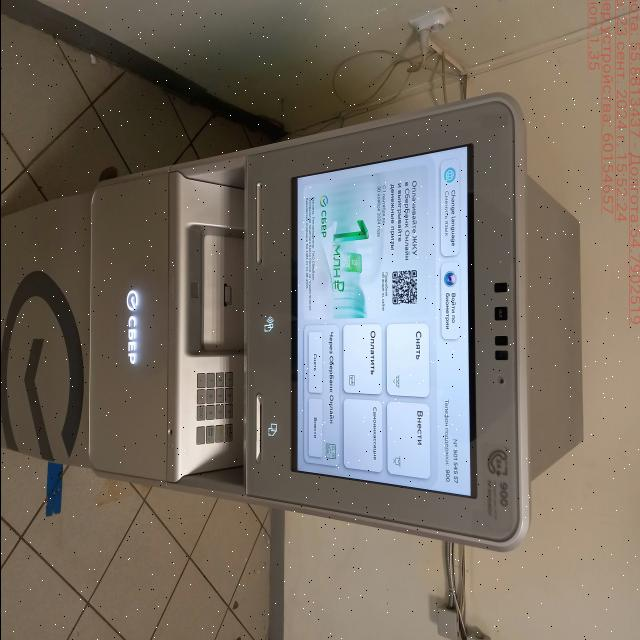bank: (0, 96, 586, 549)
